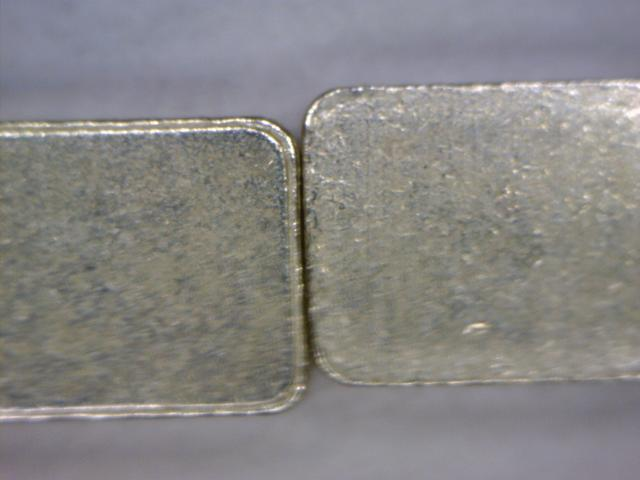ok: (301, 79, 636, 399)
